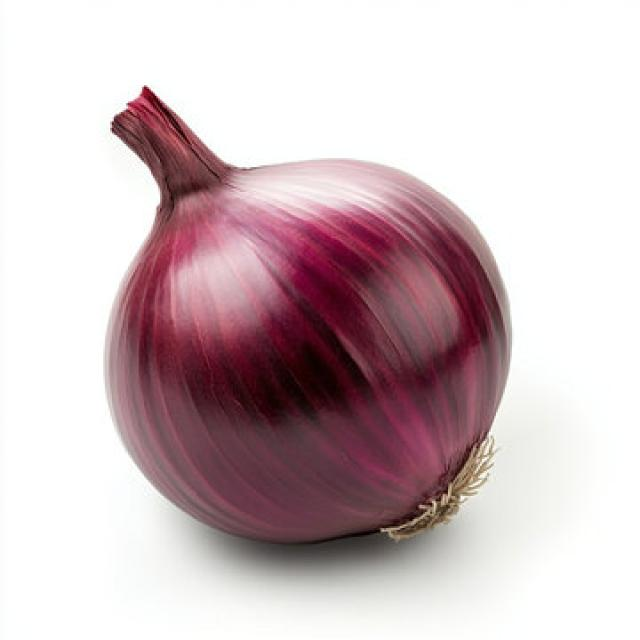Onion: (101, 83, 512, 546)
